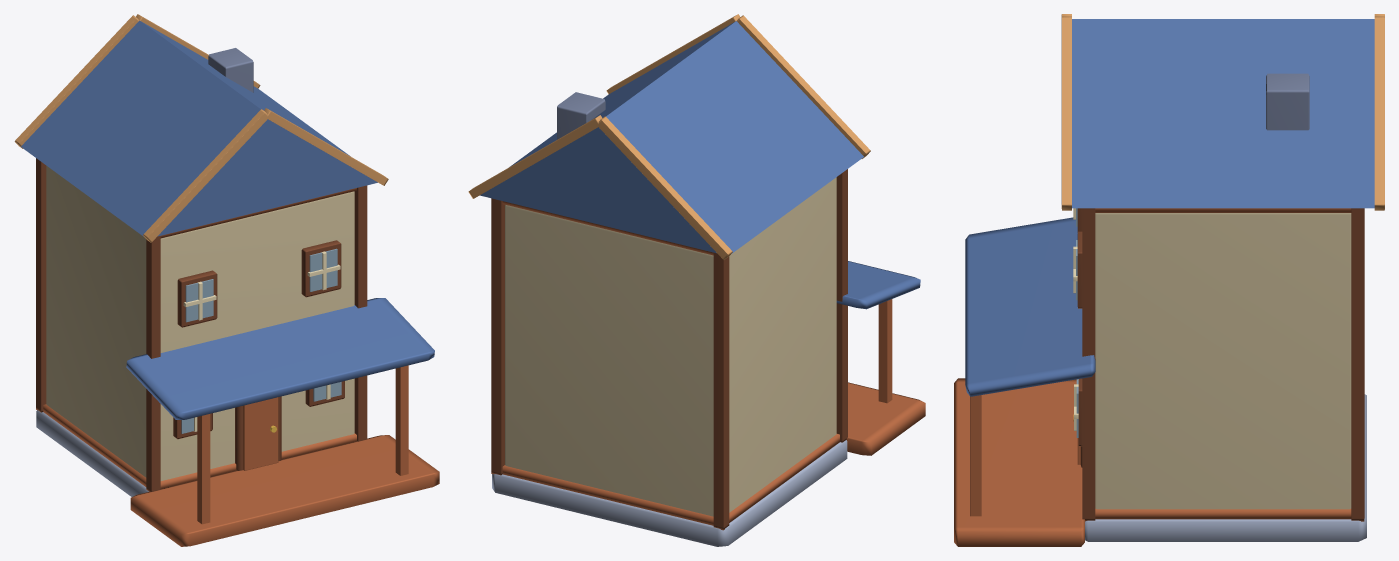
The model's file is captains_house.glb.
The picture shows the model from 3 angles, left to right: view 1: azimuth 30°, elevation 25°; view 2: azimuth 150°, elevation 25°; view 3: azimuth 270°, elevation 25°; orthographic projection. The views are drawn at different scales.
Parts seen in each view (by area): view 1: Plaster walls.006, Pitched roof.006, Porch canopy.003, Porch deck.003, Corner post.024, Corner post.025, Corner post.026, Door planks.006, Timber band.012, Stone footing.006, Roof trim.024, Roof trim.026 (+10 smaller); view 2: Plaster walls.006, Pitched roof.006, Stone footing.006, Corner post.025, Corner post.027, Porch deck.003, Timber band.012, Corner post.024, Roof trim.026, Porch canopy.003, Roof trim.024, Roof trim.027 (+4 smaller); view 3: Plaster walls.006, Pitched roof.006, Porch canopy.003, Porch deck.003, Stone footing.006, Corner post.027, Corner post.026, Timber band.012, Chimney.006, Roof trim.027, Roof trim.025, Porch post.007 (+1 smaller).
Part boxes in pixels (left/top/right/bottom): Plaster walls.006: left=46, top=166, right=354, bottom=480; Pitched roof.006: left=21, top=20, right=377, bottom=236; Porch canopy.003: left=126, top=298, right=434, bottom=419; Porch deck.003: left=130, top=435, right=439, bottom=546; Corner post.024: left=146, top=236, right=160, bottom=491; Corner post.025: left=36, top=158, right=46, bottom=412; Corner post.026: left=354, top=185, right=367, bottom=441; Door planks.006: left=243, top=397, right=278, bottom=470; Timber band.012: left=43, top=404, right=356, bottom=488; Stone footing.006: left=36, top=410, right=148, bottom=496; Roof trim.024: left=143, top=109, right=268, bottom=242; Roof trim.026: left=14, top=15, right=139, bottom=148; Plaster walls.006: left=505, top=177, right=836, bottom=516; Pitched roof.006: left=480, top=21, right=863, bottom=253; Stone footing.006: left=492, top=440, right=847, bottom=546; Corner post.025: left=713, top=252, right=729, bottom=530; Corner post.027: left=491, top=198, right=504, bottom=475; Porch deck.003: left=846, top=382, right=925, bottom=455; Timber band.012: left=502, top=434, right=839, bottom=525; Corner post.024: left=836, top=169, right=847, bottom=442; Roof trim.026: left=597, top=116, right=732, bottom=259; Porch canopy.003: left=836, top=261, right=920, bottom=309; Roof trim.024: left=737, top=15, right=870, bottom=158; Roof trim.027: left=468, top=115, right=602, bottom=198; Plaster walls.006: left=1095, top=213, right=1351, bottom=509; Pitched roof.006: left=1072, top=19, right=1374, bottom=208; Porch canopy.003: left=965, top=217, right=1095, bottom=396; Porch deck.003: left=954, top=378, right=1084, bottom=546; Stone footing.006: left=1085, top=394, right=1366, bottom=541; Corner post.027: left=1351, top=208, right=1364, bottom=521; Corner post.026: left=1082, top=208, right=1095, bottom=521; Timber band.012: left=1095, top=508, right=1351, bottom=519; Chimney.006: left=1266, top=73, right=1309, bottom=130; Roof trim.027: left=1374, top=16, right=1384, bottom=210; Roof trim.025: left=1061, top=16, right=1071, bottom=210; Porch post.007: left=970, top=395, right=981, bottom=516.
Size of the model in its own units: 5 by 7 by 5.92.
